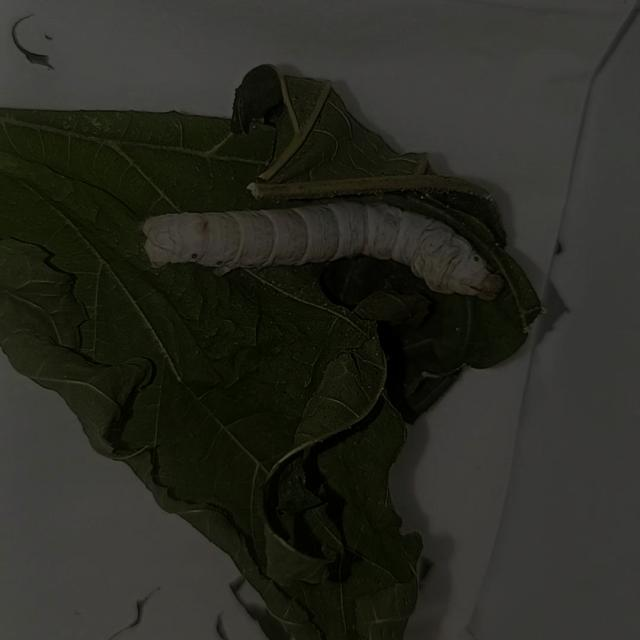Healthy: (135, 192, 507, 309)
